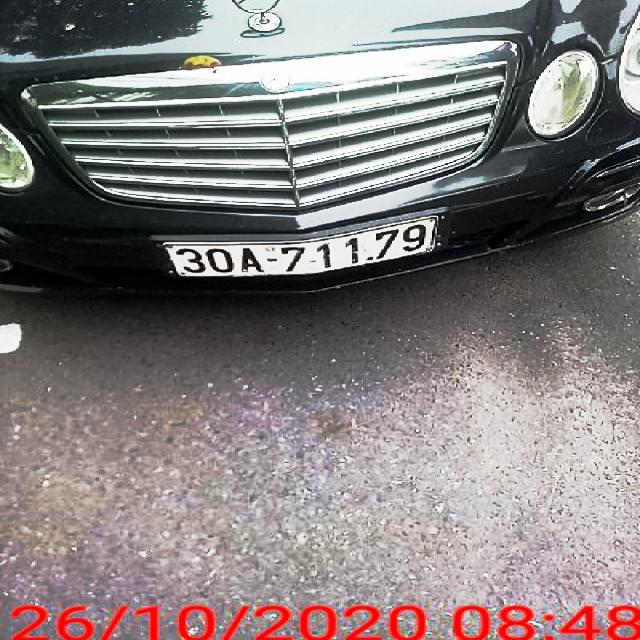license_plate: (164, 218, 437, 275)
